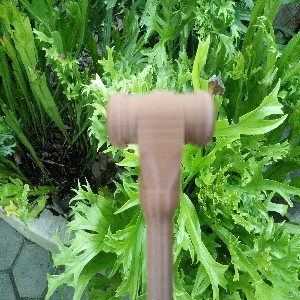palu: (106, 88, 216, 300)
